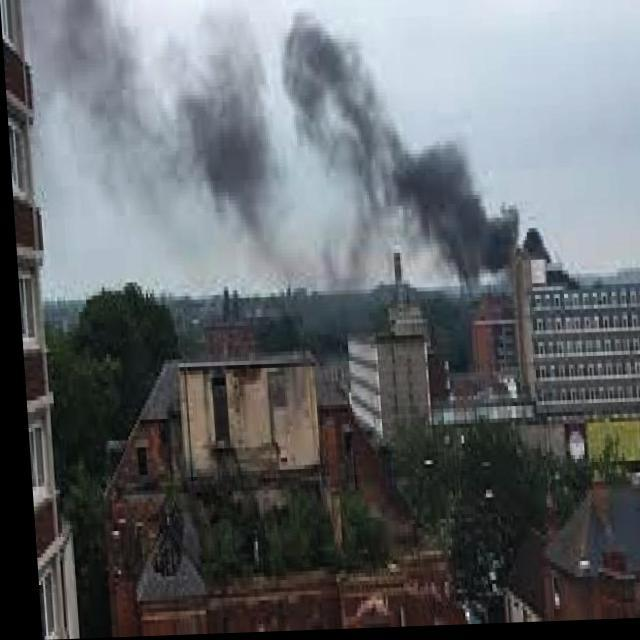Smoke: (0, 0, 556, 330)
